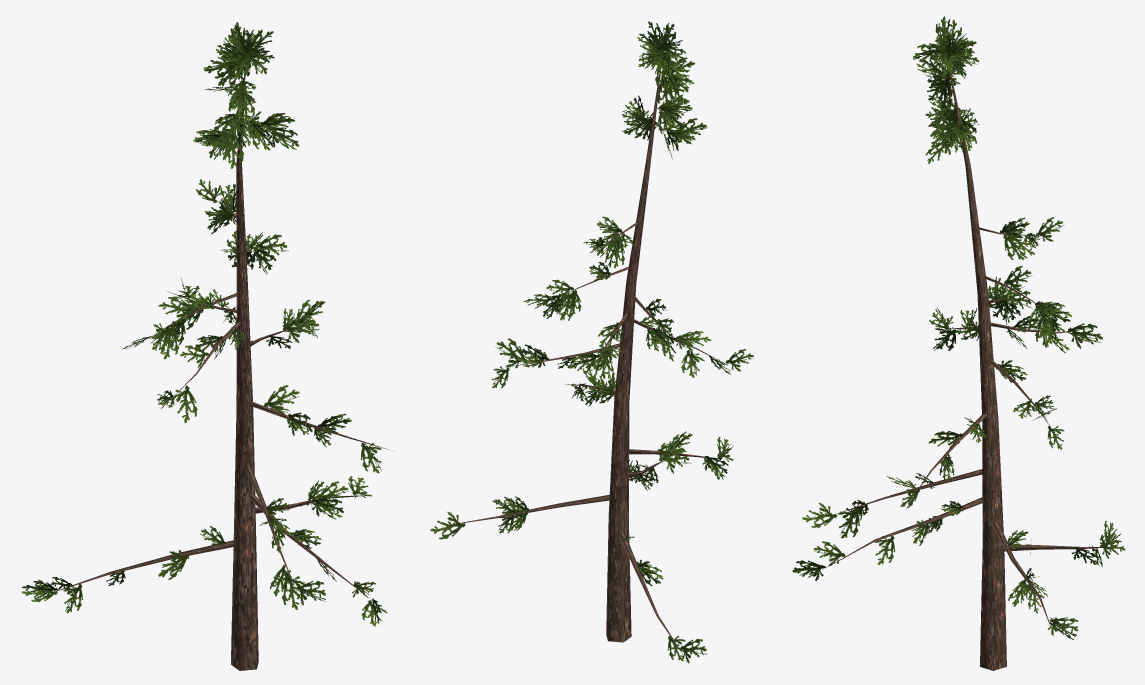
Rendered from spruce-young.glb.
The picture shows the model from 3 angles, left to right: view 1: azimuth 30°, elevation 25°; view 2: azimuth 150°, elevation 25°; view 3: azimuth 270°, elevation 25°; orthographic projection. The views are drawn at different scales.
Parts seen in each view (by area): view 1: needles, bark; view 2: needles, bark; view 3: needles, bark.
Part boxes in pixels (box(x1,y1,x2,y2)): needles: box(21, 22, 387, 626); bark: box(46, 52, 392, 670); needles: box(430, 21, 753, 663); bark: box(444, 69, 726, 656); needles: box(792, 16, 1125, 639); bark: box(825, 65, 1102, 670).
Bounding box in the file's own units: 4.36 × 8.2 × 4.02.
Materials: 2 (2 with a texture image).
